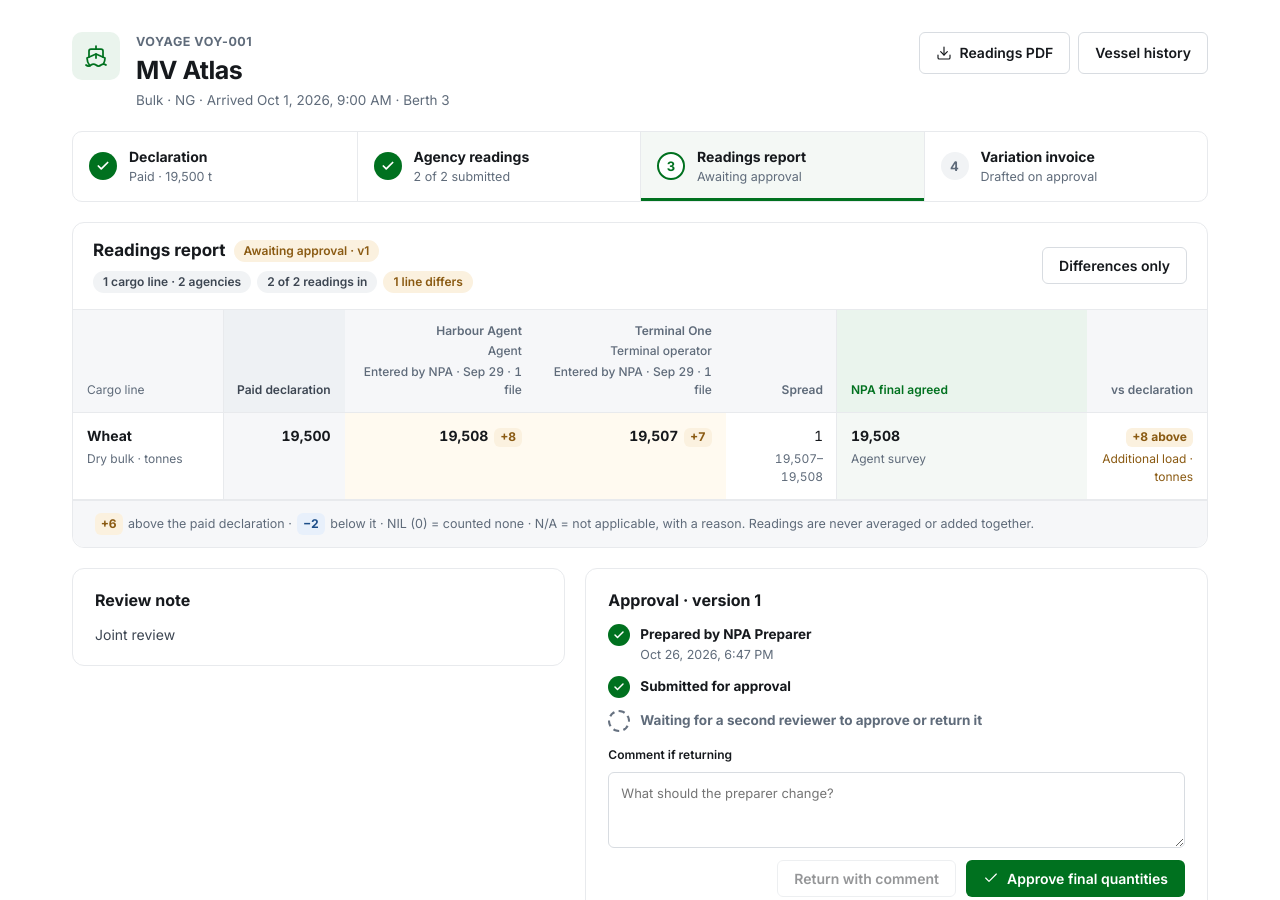
Test case: voyage readings report › lets a second reviewer approve and drafts the invoice when the paid declaration and tariff are complete
The image size is (1280, 900).
Click the button "Approve final quantities": {"x": 1076, "y": 878} x1=966 y1=860 x2=1185 y2=897
(page scrolled)
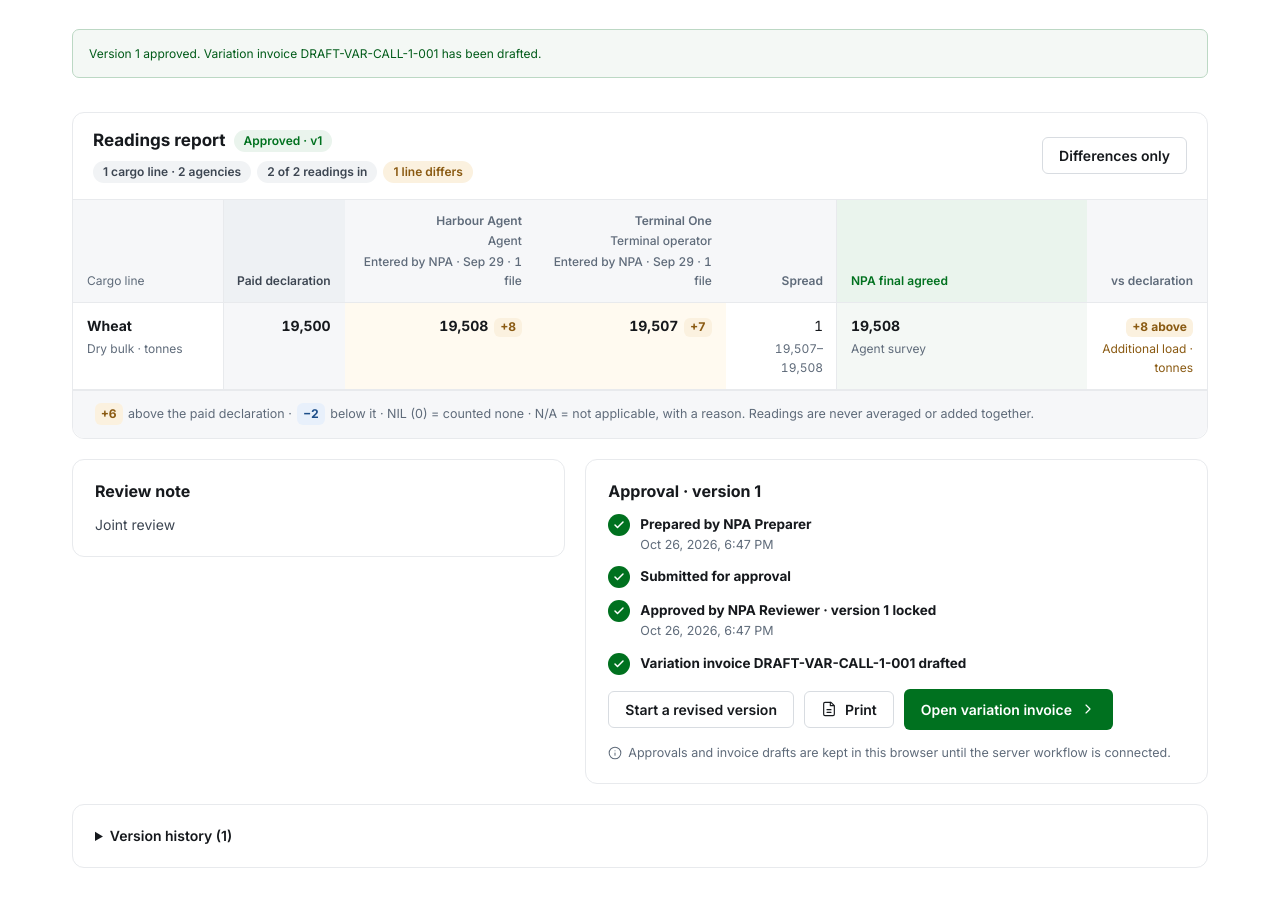
Now the text "Version 1 approved. Variation invoice DRAFT-VAR-CALL-1-001 has been drafted." is shown, box x1=72 y1=29 x2=1208 y2=78
Now the text "Variation invoice DRAFT-VAR-CALL-1-001 drafted" is shown, box x1=640 y1=655 x2=966 y2=671
